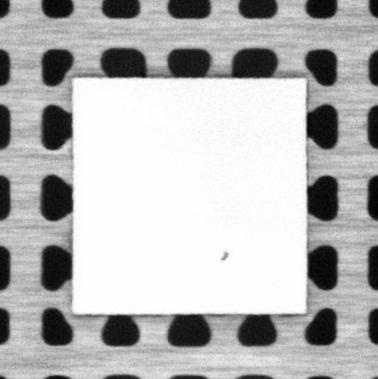DIE_INK: (218, 249, 231, 264)
